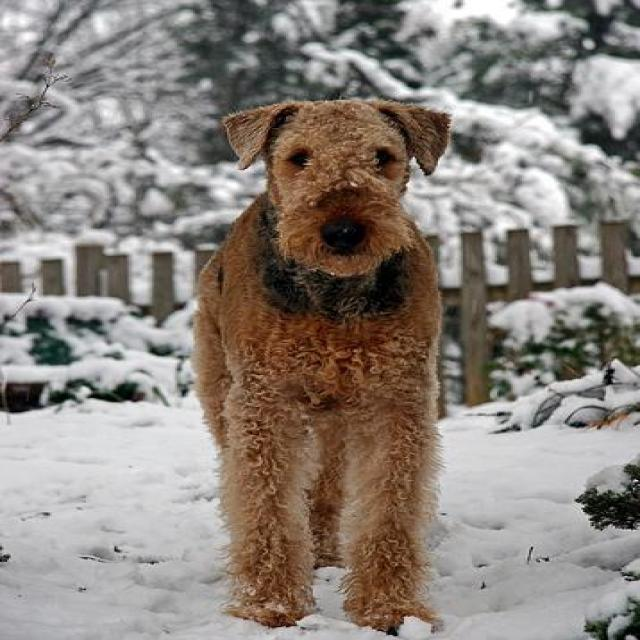airedale: (192, 93, 450, 635)
